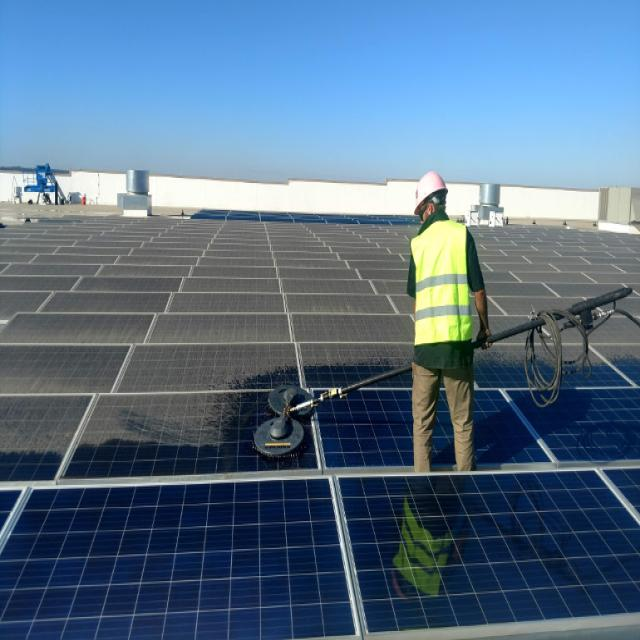dust-solar-panel: (0, 219, 640, 470)
